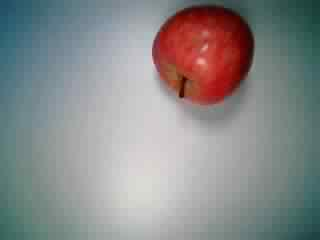apple: (152, 3, 255, 104)
